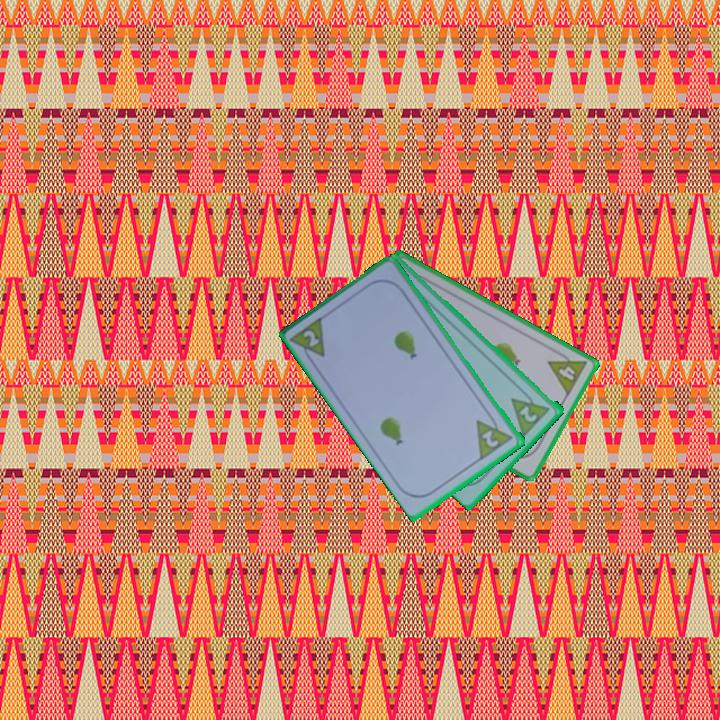2p: (508, 385, 553, 438), (473, 409, 517, 462), (300, 326, 323, 350)
4p: (544, 346, 590, 399)
